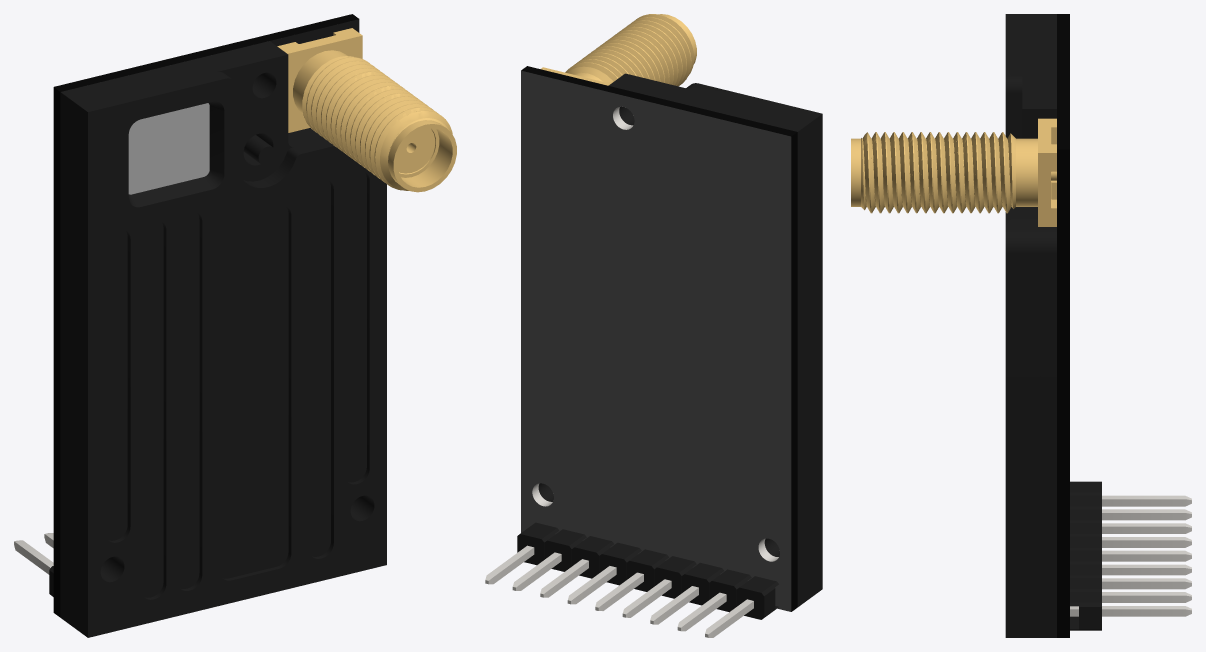
File: rush_fpv.glb
3 views of the same model, side by side, from view 1: azimuth 30°, elevation 25°; view 2: azimuth 150°, elevation 25°; view 3: azimuth 270°, elevation 25° (orthographic). The views are drawn at different scales.
Visible parts, largest first — view 1: COMPOUND.001, SMA-50KE, COMPOUND; view 2: COMPOUND.001, SMA-50KE, COMPOUND, Frame, Pin01, Pin004, Pin006, Pin002, Pin003, Pin007, Pin005, Pin008; view 3: COMPOUND.001, SMA-50KE, COMPOUND, Frame, Pin01, Pin003, Pin005, Pin004, Pin007, Pin002, Pin006.
Part boxes in pixels (x1,y1,x2,y2): COMPOUND.001: [53, 14, 386, 637]; SMA-50KE: [277, 28, 456, 192]; COMPOUND: [14, 533, 53, 596]; COMPOUND.001: [521, 66, 822, 611]; SMA-50KE: [540, 14, 696, 86]; COMPOUND: [544, 529, 778, 637]; Frame: [517, 522, 751, 612]; Pin01: [485, 545, 534, 584]; Pin004: [567, 566, 616, 604]; Pin006: [622, 579, 671, 617]; Pin002: [512, 552, 561, 590]; Pin003: [540, 559, 588, 597]; Pin007: [650, 586, 698, 624]; Pin005: [595, 572, 643, 610]; Pin008: [678, 593, 726, 631]; COMPOUND.001: [1005, 14, 1069, 637]; SMA-50KE: [851, 118, 1056, 226]; COMPOUND: [1070, 481, 1191, 588]; Frame: [1070, 495, 1101, 630]; Pin01: [1070, 606, 1191, 616]; Pin003: [1102, 578, 1191, 589]; Pin005: [1102, 550, 1191, 561]; Pin004: [1102, 564, 1191, 575]; Pin007: [1102, 523, 1191, 533]; Pin002: [1102, 592, 1191, 602]; Pin006: [1102, 537, 1191, 547].
Size of the model in its own units: 0.025 by 0.042 by 0.0265.
